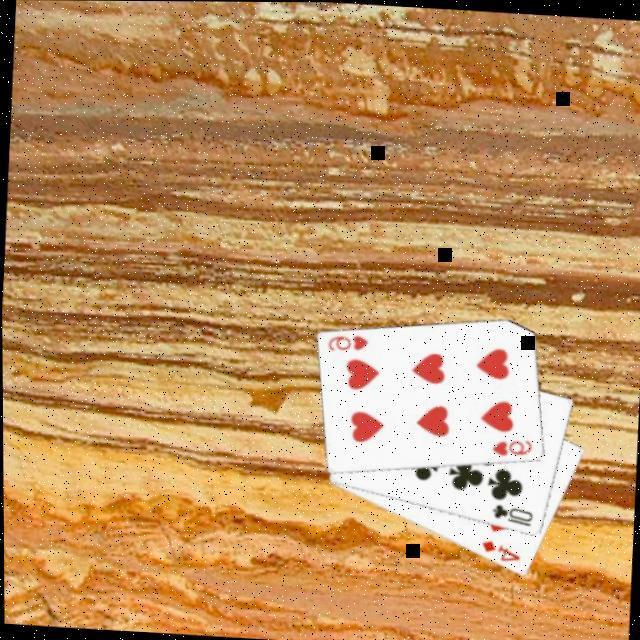10C: (486, 502, 534, 531)
4D: (476, 538, 522, 567)
6H: (486, 437, 534, 462), (324, 332, 371, 357)
